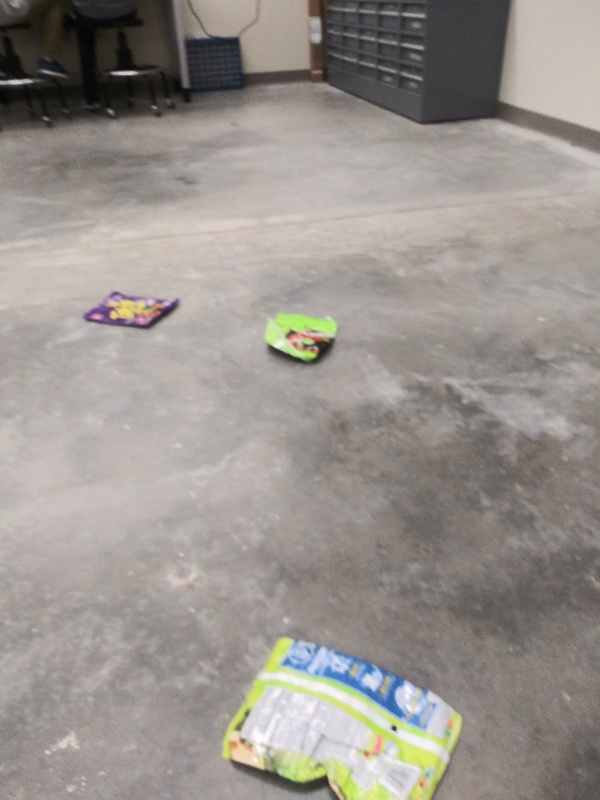bag: (222, 629, 468, 800), (81, 288, 184, 333), (256, 309, 338, 363)
